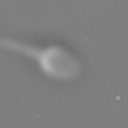abnormal: (1, 31, 45, 68)
